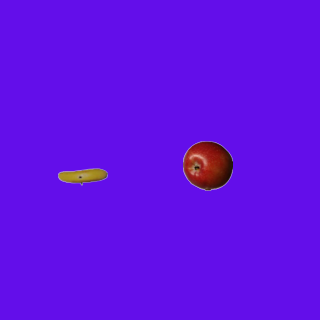Apple Braeburn: (182, 140, 232, 190)
Banana: (57, 151, 107, 201)
